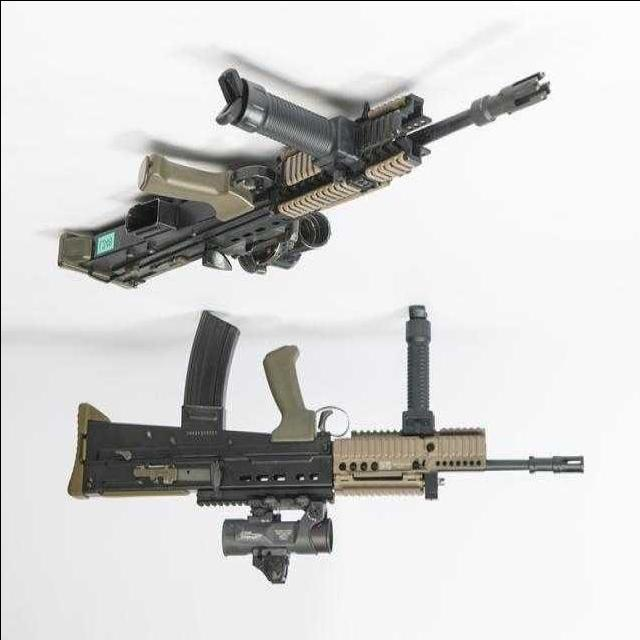heavyweapon: (32, 294, 619, 599), (42, 49, 577, 305)
